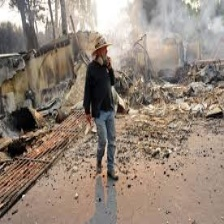smoke: (145, 8, 221, 48)
